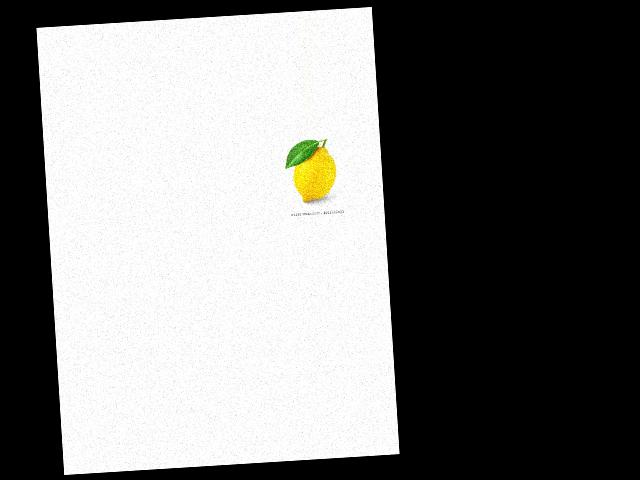lemon: (285, 143, 339, 204)
